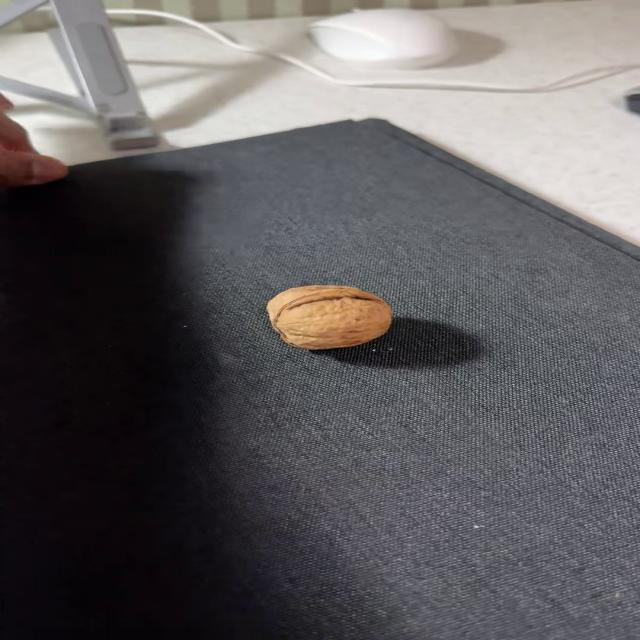nuts-good: (267, 285, 392, 350)
